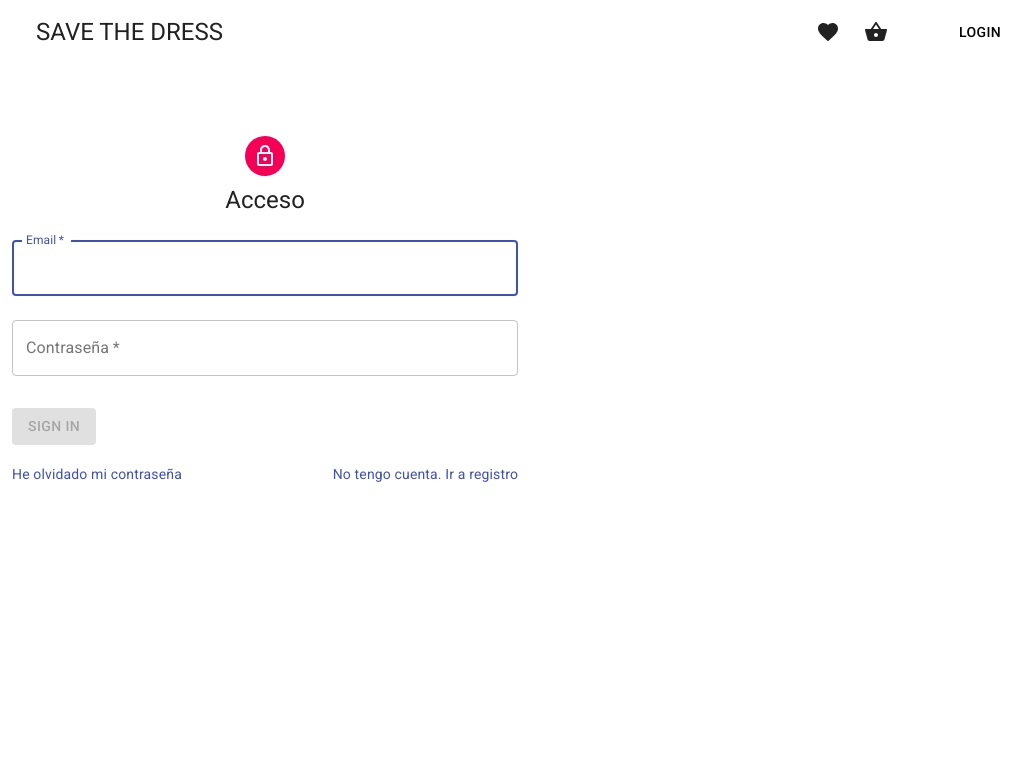
Scenario: Login integration test › should render logout button in header after login
In the field with test id "login-emailField": point(265, 268) [12,240,518,296], type "mockemail@mock.com"
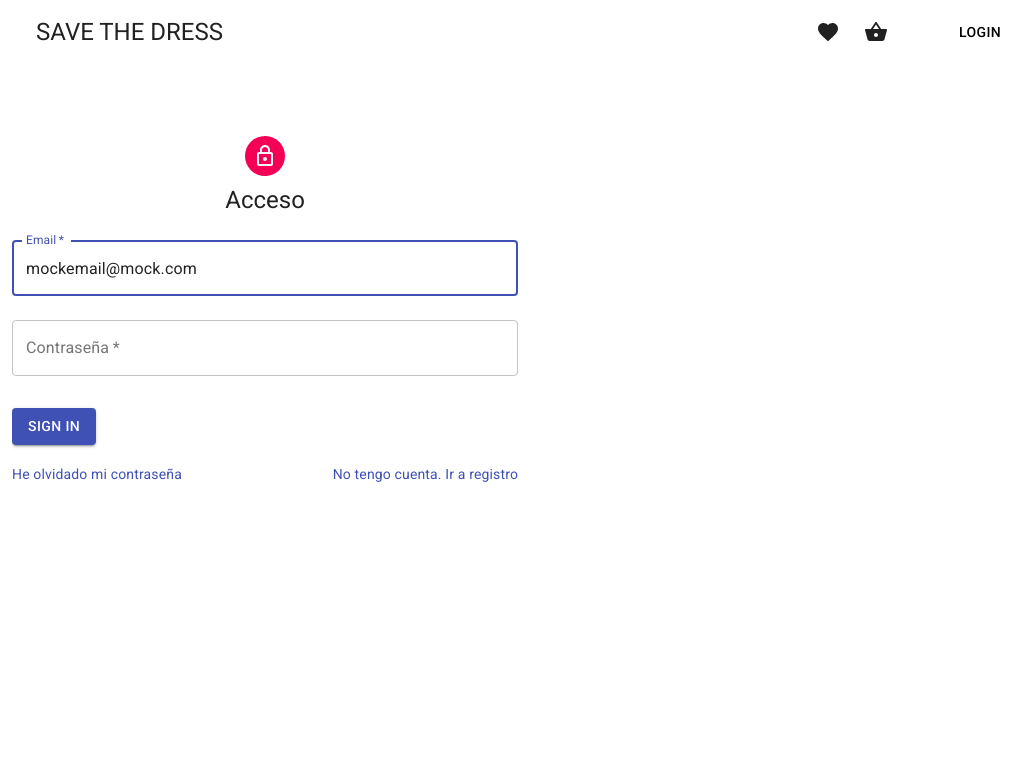
In the password field with test id "login-passwordField": point(265, 348) [12,320,518,376], type "mockPassword"
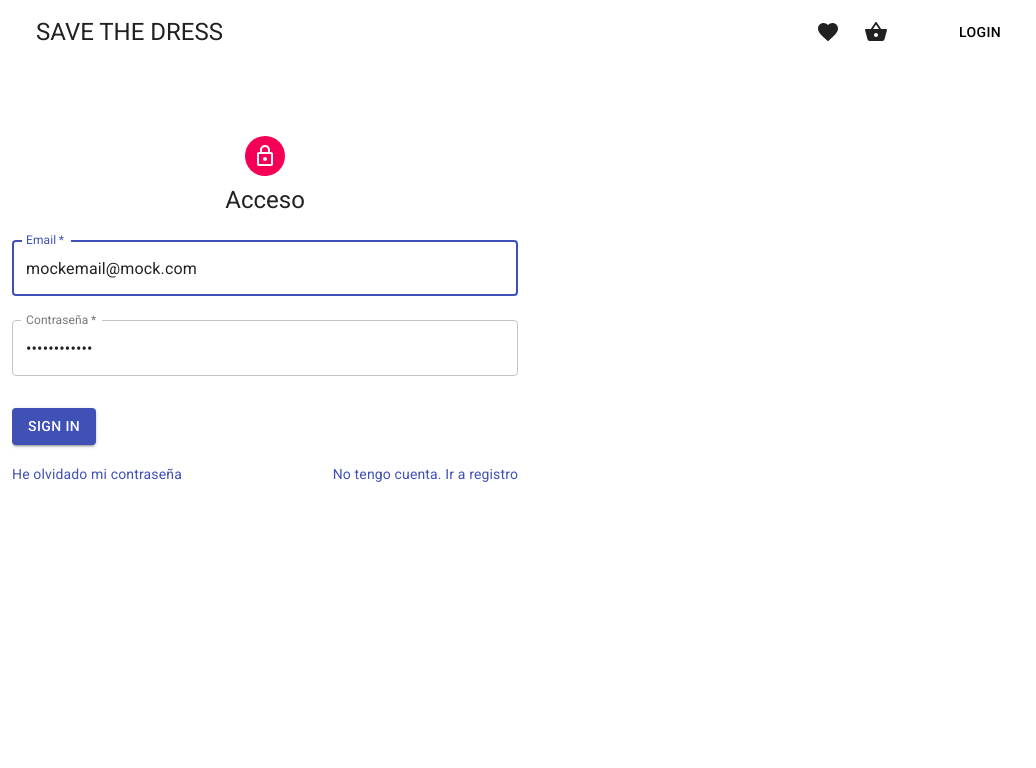
Click the button with test id "login-submitButton": point(54, 426) [12,408,96,444]
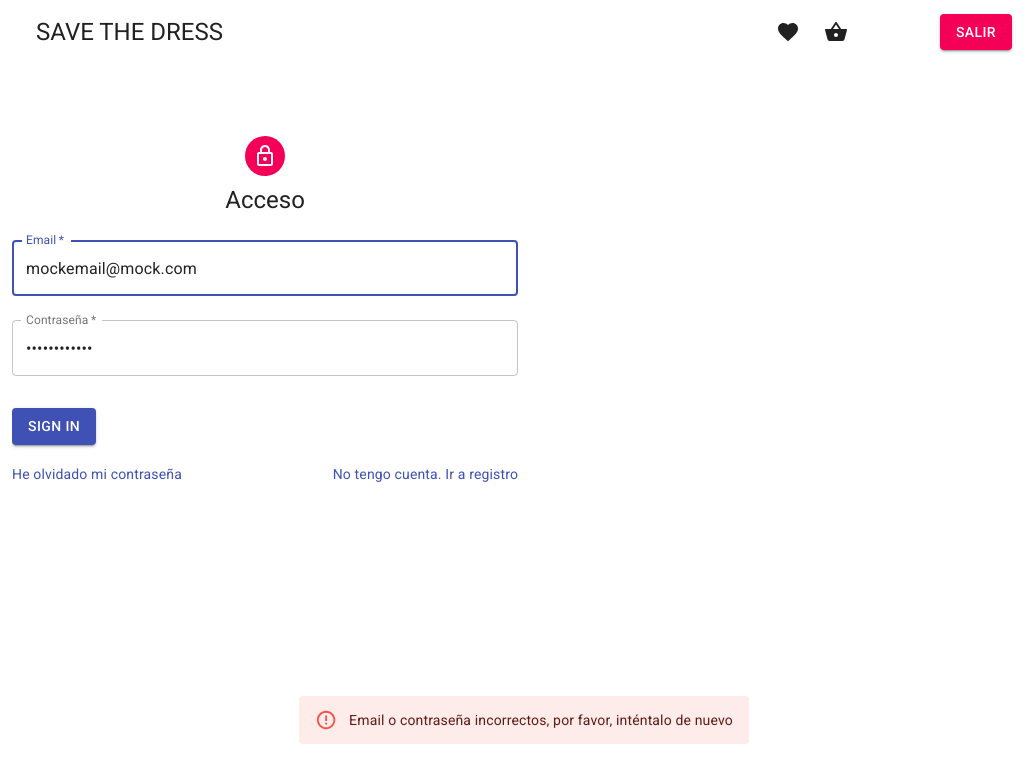
Expected: the button with test id "header-logoutButton" is shown, [940,14,1012,50]
